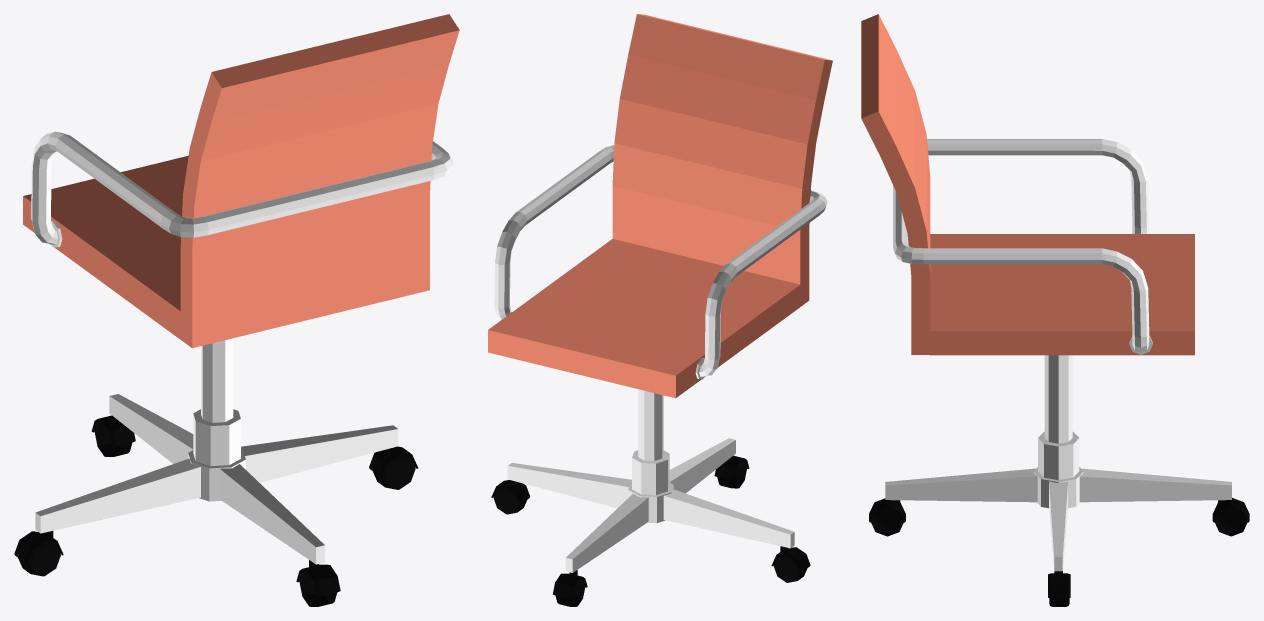
The model's file is Office Chair 2.fbx.
3 views of the same model, side by side, from view 1: azimuth 30°, elevation 25°; view 2: azimuth 150°, elevation 25°; view 3: azimuth 270°, elevation 25° (orthographic). The views are drawn at different scales.
Parts seen in each view (by area): view 1: Node 1, Node 0, Node 3, Node 5, Node 4, Node 2; view 2: Node 1, Node 0, Node 3, Node 5, Node 2, Node 4; view 3: Node 1, Node 0, Node 2, Node 4, Node 5.
Boxes of the visible parts, x1,y1,x2,y2 form: Node 1: [23, 14, 459, 348]; Node 0: [35, 338, 398, 564]; Node 3: [14, 531, 63, 576]; Node 5: [369, 446, 418, 489]; Node 4: [296, 560, 340, 606]; Node 2: [91, 415, 135, 456]; Node 1: [488, 14, 832, 398]; Node 0: [507, 389, 794, 572]; Node 3: [771, 546, 810, 582]; Node 5: [491, 480, 530, 514]; Node 2: [553, 570, 587, 606]; Node 4: [714, 455, 749, 488]; Node 1: [861, 14, 1194, 355]; Node 0: [885, 355, 1231, 571]; Node 2: [1212, 498, 1249, 536]; Node 4: [869, 498, 905, 536]; Node 5: [1048, 571, 1070, 606].
Size of the model in its own units: 0.9532 by 1.28 by 0.9345.
